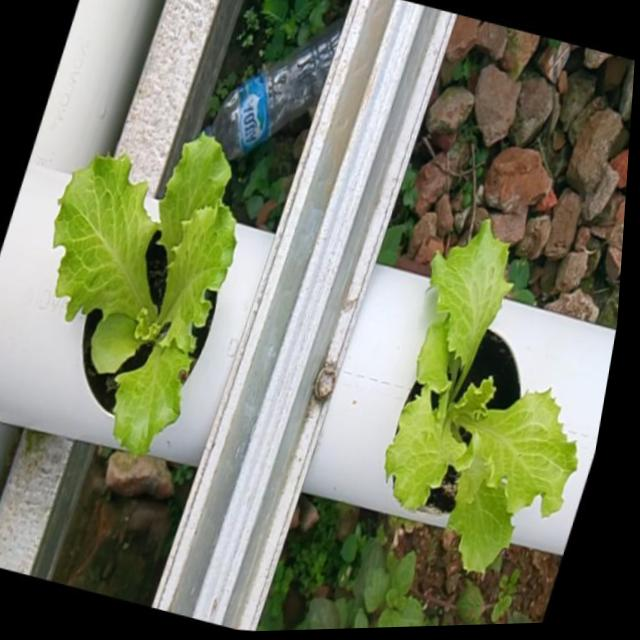Baby: (389, 221, 582, 575), (58, 133, 243, 460)
